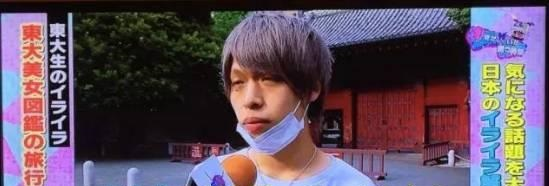face: (230, 52, 299, 147)
